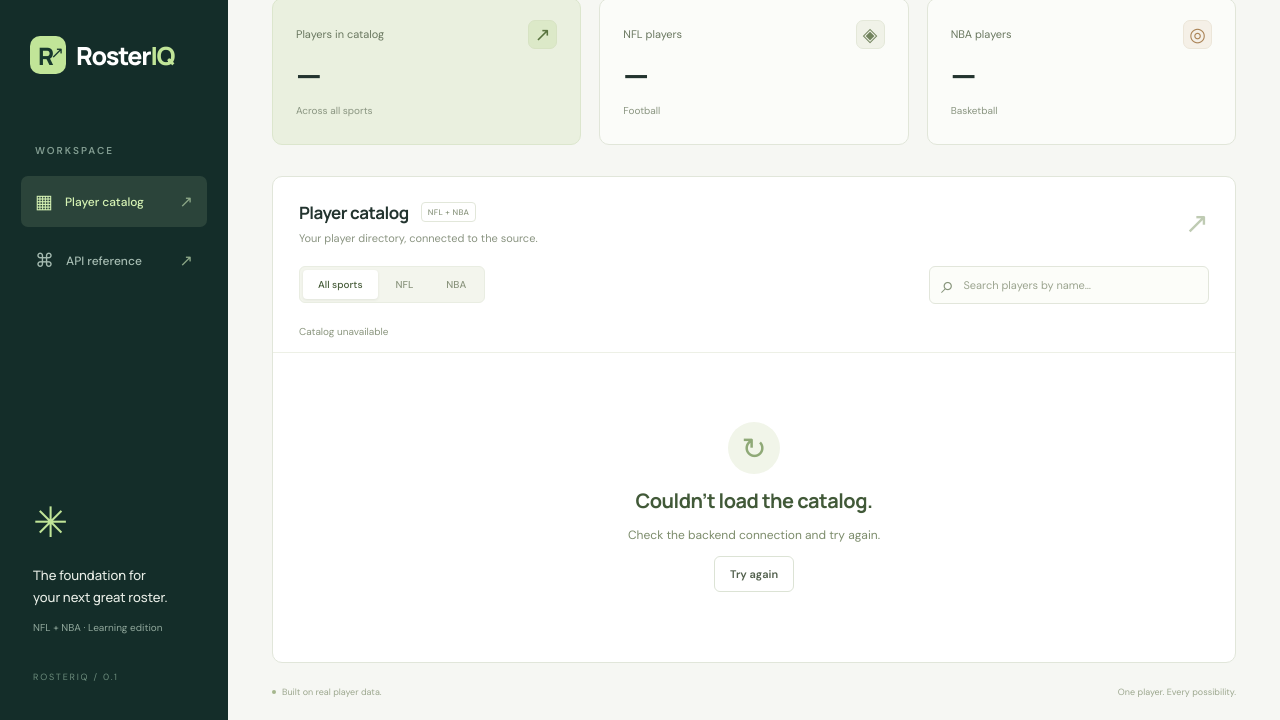
player catalog › shows request failures and recovers on retry
The width and height of the screenshot is (1280, 720).
(page scrolled)
Expected: the message shows "Couldn’t load the catalog.", [636,487,873,514]
Click the button "Try again" at (754, 574), box [714,556,794,592]
(page scrolled)
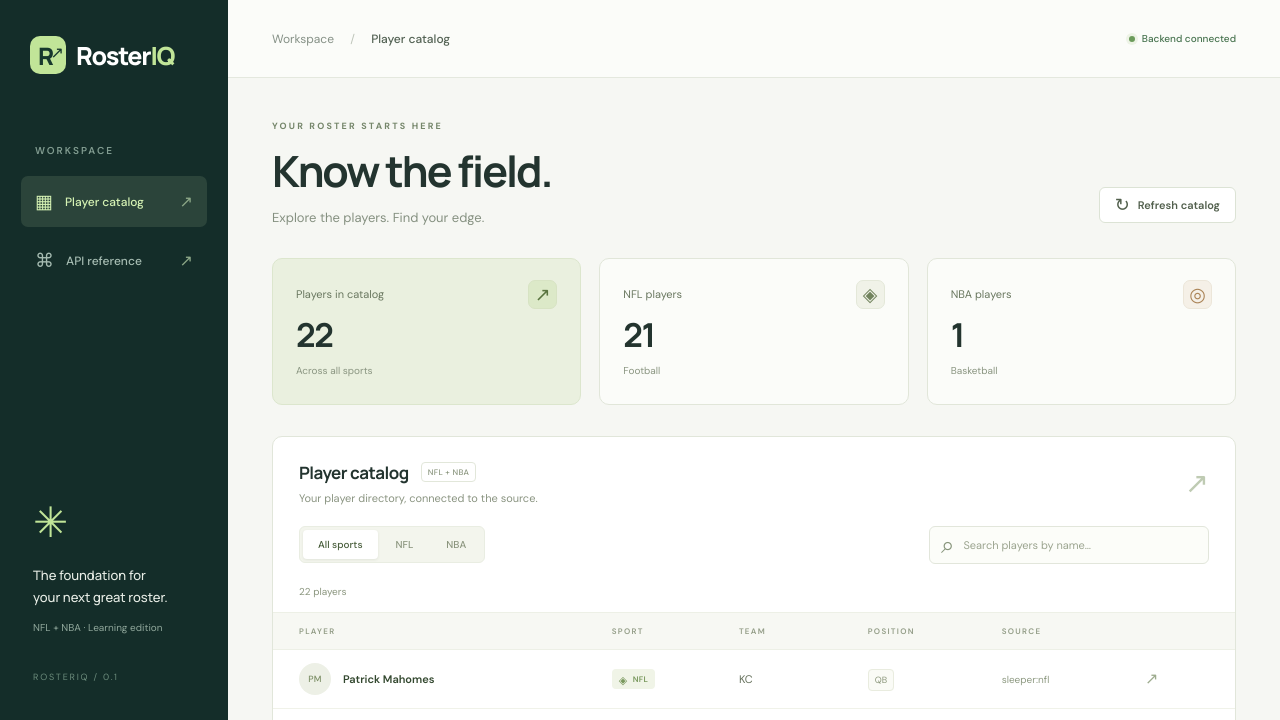
Expected: the button "PM Patrick Mahomes" is shown, [299,663,434,695]
Expected: the text "Backend connected" is shown, [1129,32,1236,45]
